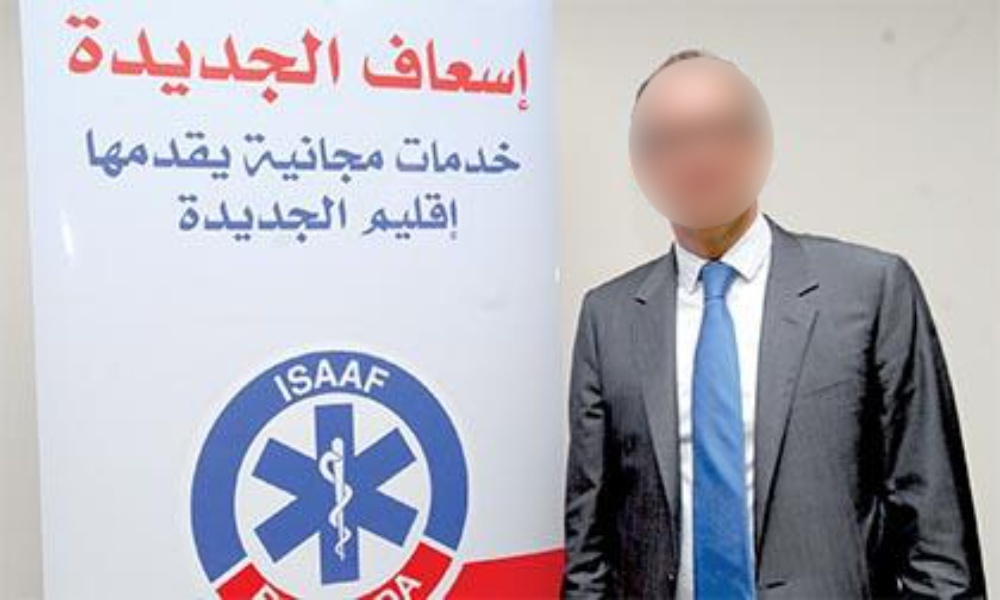text: (65, 15, 80, 110), (81, 15, 96, 110), (97, 15, 112, 110), (113, 15, 128, 110), (129, 15, 144, 110), (145, 15, 160, 110), (161, 15, 176, 110), (177, 15, 192, 110), (193, 15, 208, 110), (209, 15, 224, 110), (225, 15, 240, 110), (241, 15, 256, 110), (257, 15, 272, 110), (273, 15, 288, 110), (289, 15, 304, 110), (305, 15, 320, 110), (321, 15, 336, 110), (369, 29, 384, 112), (385, 29, 400, 112), (401, 29, 416, 112), (417, 29, 432, 112), (433, 29, 448, 112), (449, 29, 464, 112), (465, 29, 480, 112), (481, 29, 496, 112), (497, 29, 512, 112), (513, 29, 528, 112), (273, 351, 288, 410), (289, 351, 304, 410), (305, 351, 320, 410), (321, 351, 336, 410), (337, 351, 352, 410), (353, 351, 368, 410), (369, 351, 384, 410), (385, 351, 400, 410), (258, 351, 272, 410), (257, 131, 272, 186), (273, 131, 288, 186), (289, 131, 304, 186), (305, 131, 320, 186), (321, 131, 336, 186), (337, 131, 352, 186), (353, 131, 368, 186), (369, 131, 384, 186), (177, 191, 192, 246), (193, 191, 208, 246), (209, 191, 224, 246), (225, 191, 240, 246), (241, 191, 256, 246), (257, 191, 272, 246), (273, 191, 288, 246), (289, 191, 304, 246), (305, 191, 320, 246), (321, 191, 336, 246), (369, 189, 384, 243), (385, 189, 400, 243), (401, 189, 416, 243), (417, 189, 432, 243), (433, 189, 448, 243), (97, 129, 112, 181), (113, 129, 128, 181), (129, 129, 144, 181), (145, 129, 160, 181), (161, 129, 176, 181), (177, 129, 192, 181), (193, 129, 208, 181), (209, 129, 224, 181), (243, 131, 256, 186), (401, 134, 416, 177), (417, 134, 432, 177), (433, 134, 448, 177), (449, 134, 464, 177), (465, 134, 480, 177), (481, 134, 496, 177), (497, 134, 512, 177), (84, 129, 96, 181), (337, 191, 348, 246), (449, 189, 460, 243), (529, 29, 536, 112), (369, 565, 384, 600), (385, 565, 400, 600), (401, 565, 416, 600), (362, 29, 368, 112), (417, 565, 431, 600), (225, 129, 234, 181), (360, 189, 368, 243), (513, 134, 522, 177), (393, 134, 400, 177), (401, 351, 405, 410), (337, 15, 339, 110), (174, 191, 176, 246), (385, 131, 386, 186), (367, 565, 368, 600)
